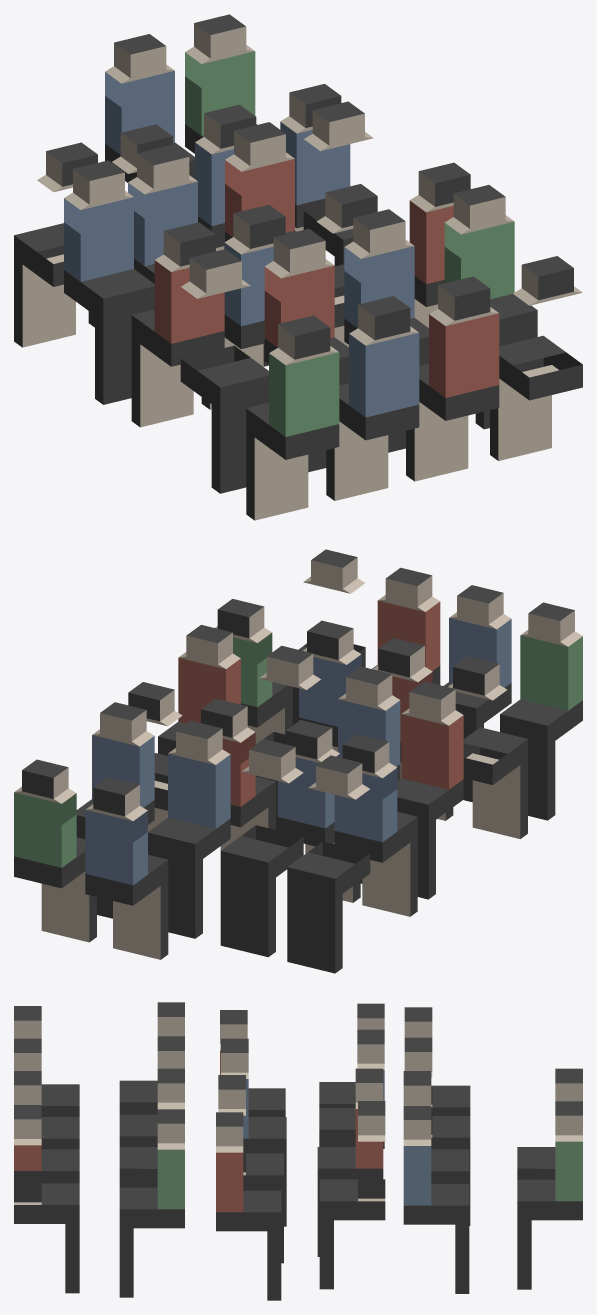
Rendered from people.dae.
3 views of the same model, one above another, from view 1: azimuth 30°, elevation 25°; view 2: azimuth 150°, elevation 25°; view 3: azimuth 270°, elevation 25° (orthographic). The views are drawn at different scales.
Parts seen in each view (by area): view 1: Plane_020_012, Plane_020_008, Plane_020_014, Plane_020_013, Plane_020_017, Plane_020_015, Plane_020_007, Plane_020_004, Plane_020_020, Plane_020_006, Plane_020_005, Plane_020_002 (+10 smaller); view 2: Plane_020_022, Plane_020_002, Plane_020_012, Plane_020_003, Plane_020_008, Plane_020_020, Plane_020_021, Plane_020_017, Plane_020_007, Plane_020_013, Plane_020_023, Plane_020_004 (+10 smaller); view 3: Plane_020_023, Plane_020_003, Plane_020_016, Plane_020_004, Plane_020_011, Plane_020_015, Plane_020_010, Plane_020_014, Plane_020_019, Plane_020_018, Plane_020_005, Plane_020_009 (+10 smaller).
Part boxes in pixels (x1,y1,x2,y2): Plane_020_012: (246,315,339,520); Plane_020_008: (64,160,154,404); Plane_020_014: (406,276,499,481); Plane_020_013: (326,296,419,500); Plane_020_017: (131,222,224,427); Plane_020_015: (490,256,582,460); Plane_020_007: (180,249,268,493); Plane_020_004: (444,185,537,429); Plane_020_020: (14,142,97,347); Plane_020_006: (264,228,348,472); Plane_020_005: (344,209,428,452); Plane_020_002: (105,34,194,182); Plane_020_022: (148,720,230,938); Plane_020_002: (85,777,168,959); Plane_020_012: (500,602,582,820); Plane_020_003: (14,759,96,942); Plane_020_008: (334,734,417,916); Plane_020_020: (287,755,370,973); Plane_020_021: (220,739,303,957); Plane_020_017: (397,681,463,899); Plane_020_007: (448,656,527,838); Plane_020_013: (444,585,511,802); Plane_020_023: (76,702,154,918); Plane_020_004: (215,599,292,744); Plane_020_023: (403,1105,469,1293); Plane_020_003: (517,1101,582,1289); Plane_020_016: (216,1112,281,1300); Plane_020_004: (119,1109,184,1297); Plane_020_011: (319,1101,385,1289); Plane_020_015: (14,1105,79,1293); Plane_020_010: (317,1068,383,1256); Plane_020_014: (14,1071,79,1183); Plane_020_019: (221,1038,286,1226); Plane_020_018: (218,1075,283,1263); Plane_020_005: (119,1068,184,1187); Plane_020_009: (319,1029,384,1148).
Size of the model in its own units: 1.73 by 3.24 by 1.09.
